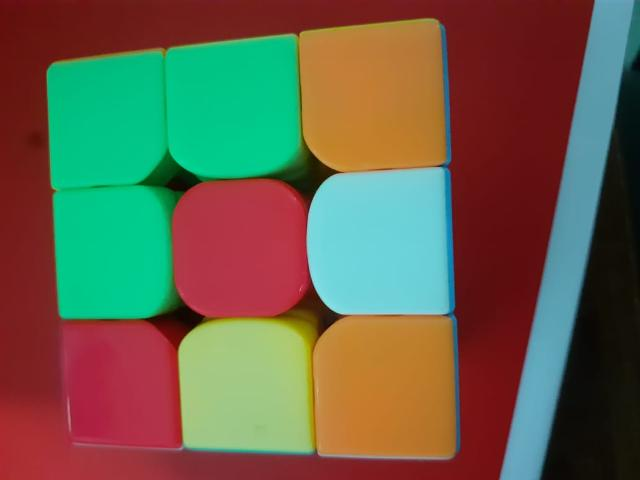Green: (303, 19, 441, 171), (172, 36, 296, 172), (52, 55, 162, 185), (60, 189, 166, 317)
Orange: (314, 320, 452, 458)
Red: (174, 180, 302, 318), (64, 324, 174, 444)
White: (312, 174, 446, 312)
Yellow: (181, 328, 307, 452)
